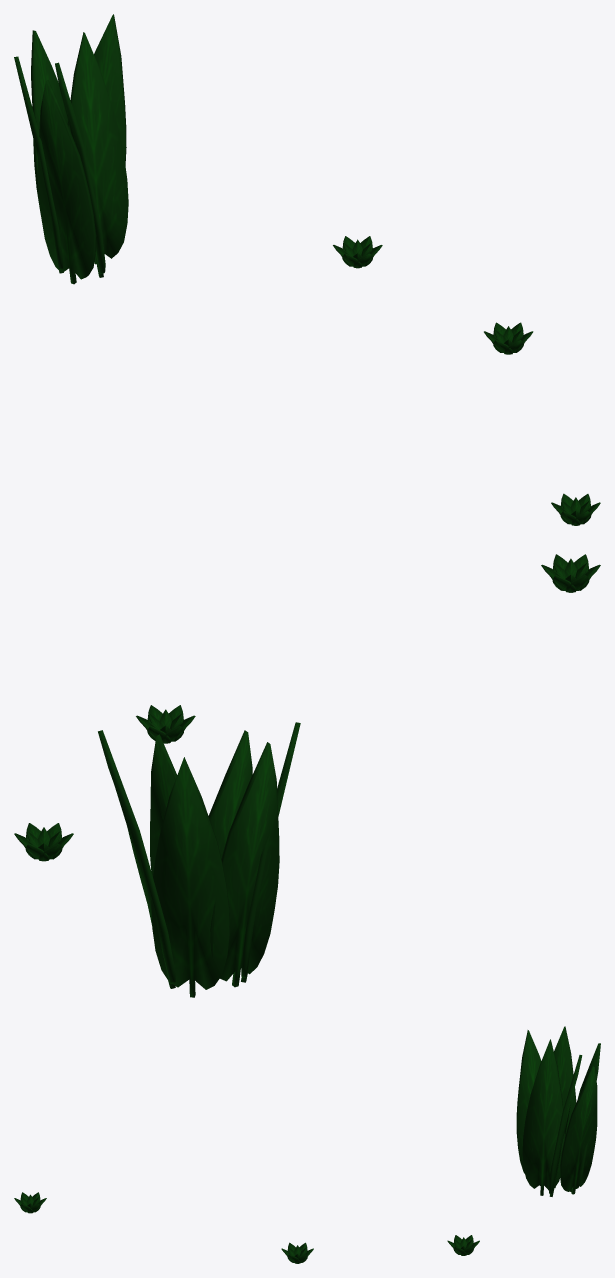
File: Folliage.glb
The picture shows the model from 3 angles, top to bottom: view 1: azimuth 30°, elevation 25°; view 2: azimuth 150°, elevation 25°; view 3: azimuth 270°, elevation 25°; orthographic projection. The views are drawn at different scales.
Visible parts, largest first — view 1: Leaf.007, SmallLeaf.001, SmallLeaf, SmallLeaf.002; view 2: Leaf.007, SmallLeaf, SmallLeaf.002, SmallLeaf.001; view 3: Leaf.007, SmallLeaf.002, SmallLeaf.001, SmallLeaf.
Part boxes in pixels (x1=…): Leaf.007: x1=14, y1=14, x2=128, y2=284; SmallLeaf.001: x1=484, y1=322, x2=533, y2=354; SmallLeaf: x1=333, y1=236, x2=382, y2=268; SmallLeaf.002: x1=551, y1=493, x2=600, y2=525; Leaf.007: x1=98, y1=722, x2=300, y2=997; SmallLeaf: x1=14, y1=823, x2=73, y2=861; SmallLeaf.002: x1=541, y1=554, x2=600, y2=592; SmallLeaf.001: x1=136, y1=705, x2=195, y2=743; Leaf.007: x1=516, y1=1026, x2=600, y2=1196; SmallLeaf.002: x1=14, y1=1192, x2=46, y2=1213; SmallLeaf.001: x1=281, y1=1242, x2=313, y2=1263; SmallLeaf: x1=447, y1=1235, x2=479, y2=1255.
Size of the model in its own units: 29.66 by 20.51 by 73.98.
Materials: 1 (1 with a texture image).
